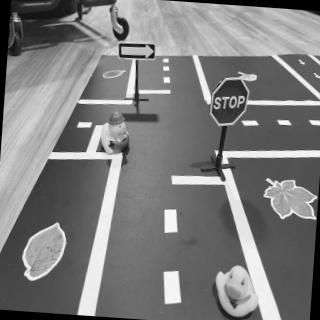duck_regular: (212, 265, 261, 320)
duck_specialty: (101, 111, 132, 155)
sign_oneway_right: (118, 40, 158, 64)
sign_stop: (210, 77, 251, 131)
